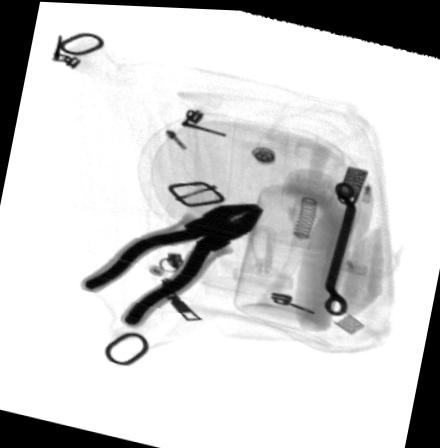Pliers: (80, 202, 262, 327)
Wrench: (320, 178, 358, 313)
